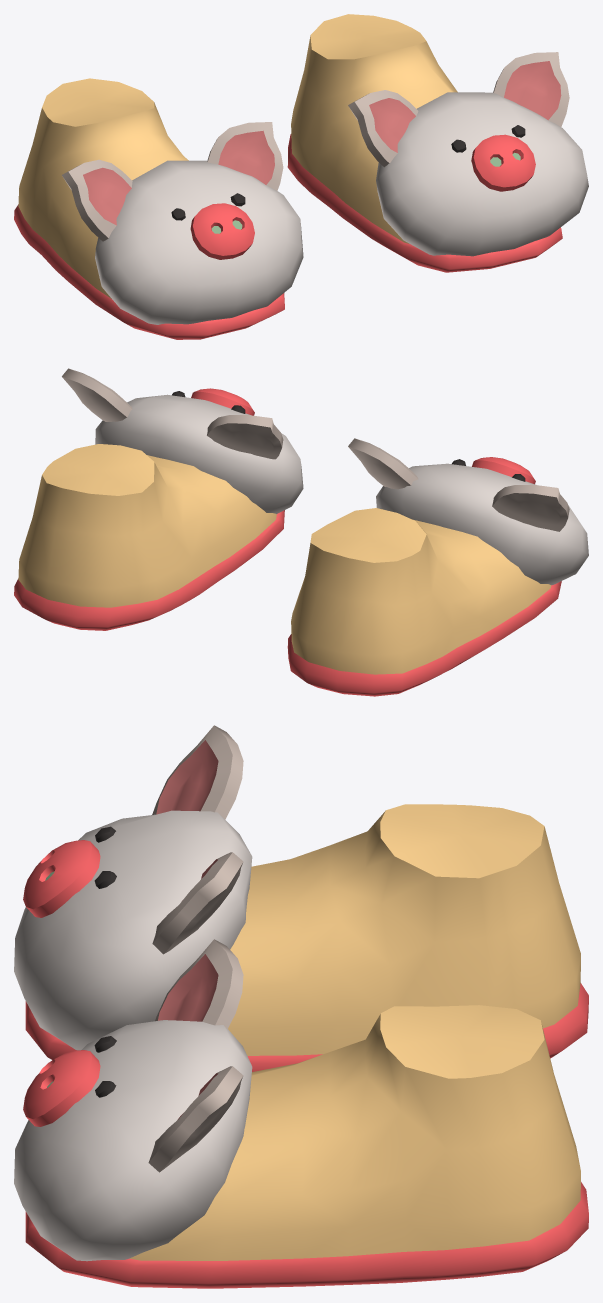
File: Shoes_04_04.fbx
3 renders of one model, top to bottom at view 1: azimuth 30°, elevation 25°; view 2: azimuth 150°, elevation 25°; view 3: azimuth 270°, elevation 25°, orthographic. The views are drawn at different scales.
Parts seen in each view (by area): view 1: Shoes_04_04; view 2: Shoes_04_04; view 3: Shoes_04_04.
Part boxes in pixels (<box>): Shoes_04_04: <box>14,14,588,339</box>; Shoes_04_04: <box>14,368,588,696</box>; Shoes_04_04: <box>14,725,588,1288</box>.
Bounding box in the file's own units: 31.98 × 9.13 × 20.99.
